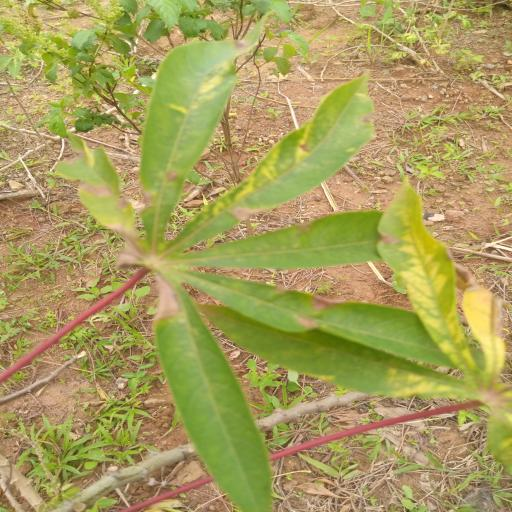Cassava_Brown_Leaf_Spot: (61, 19, 512, 512)
